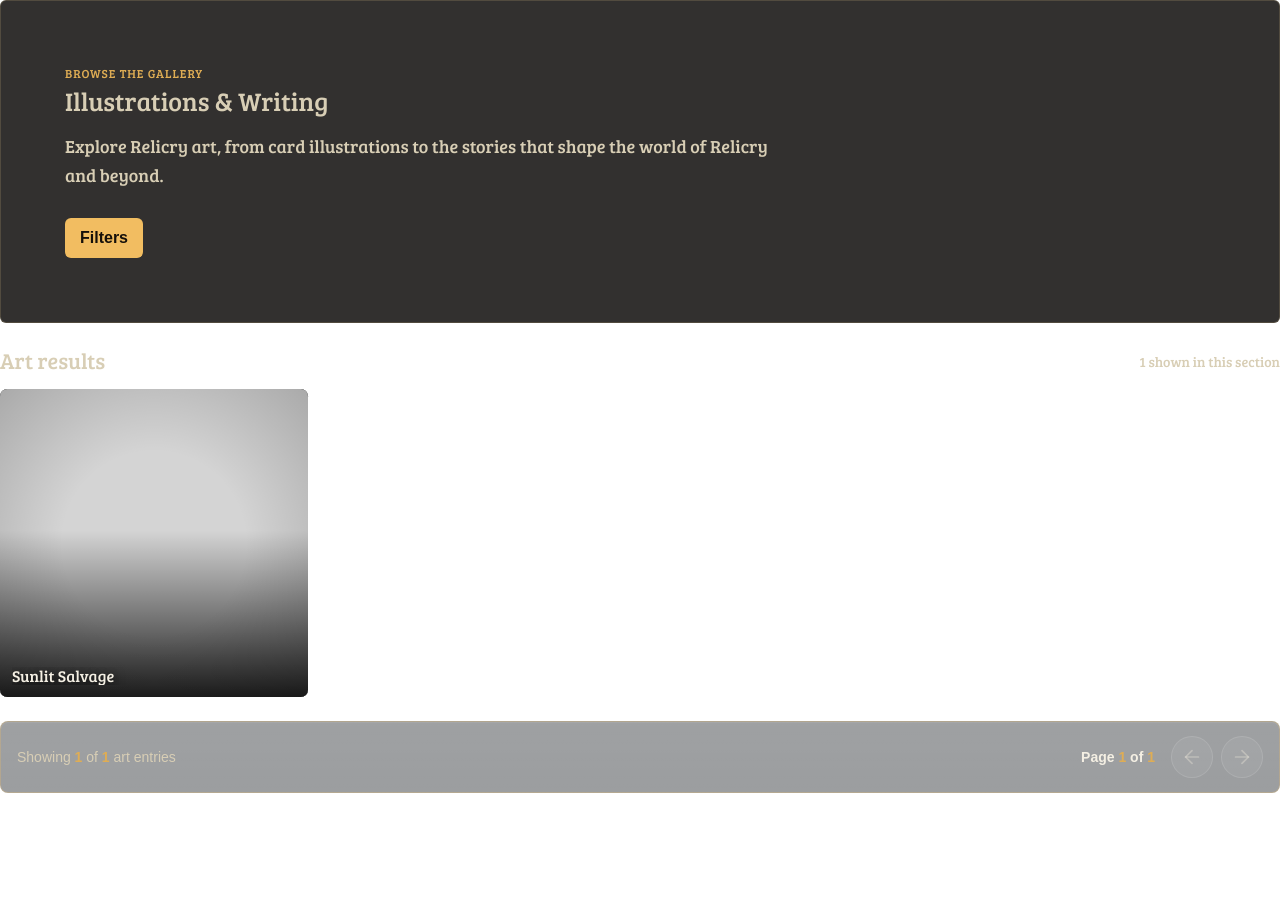
Test: ArtBrowserClient › propagates URL artist filters into the filter dialog
Click the button "Filters" at (104, 238), box 65,218 -> 143,258
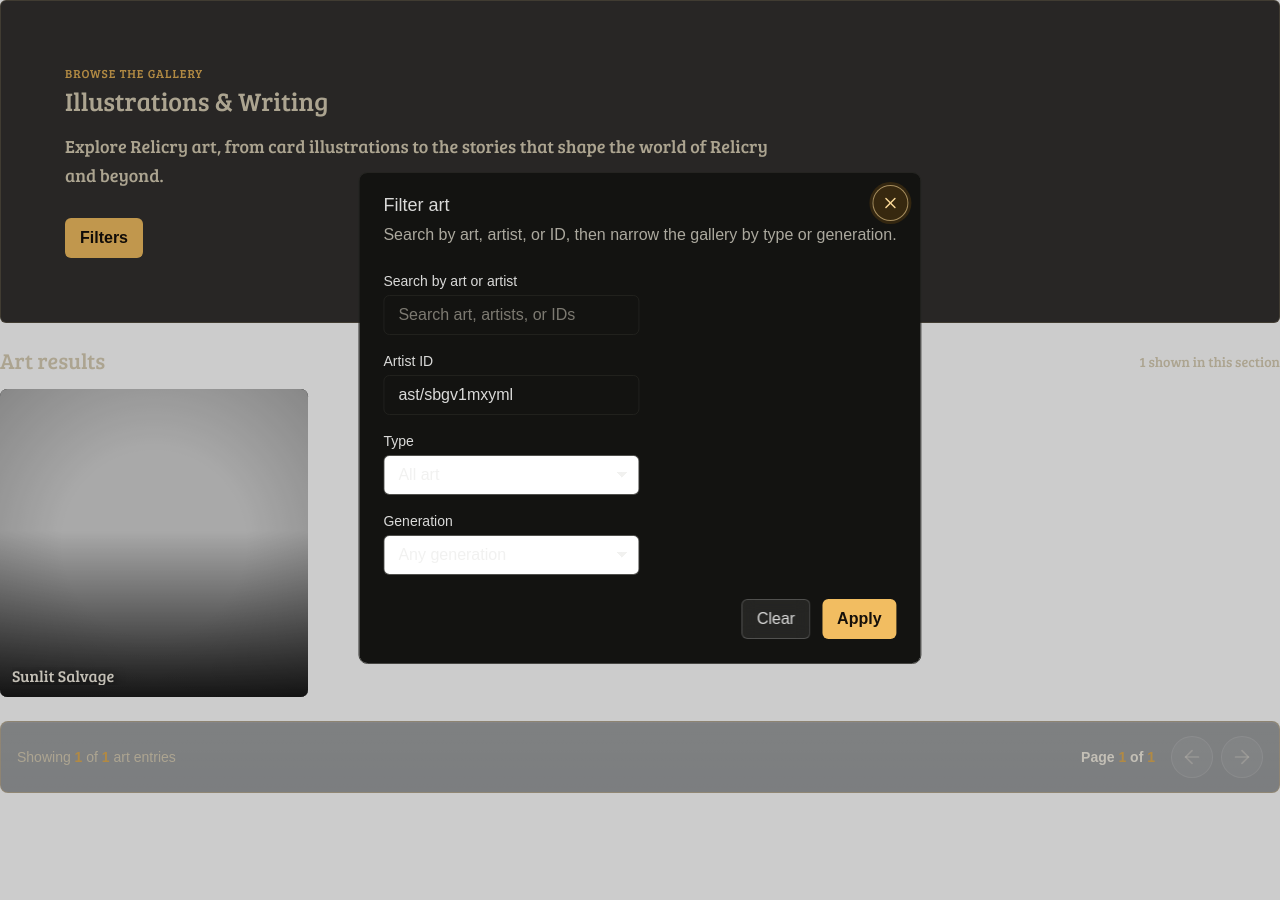
Now the field labelled "Artist ID" holds "ast/sbgv1mxyml", box 383,375 -> 639,415
